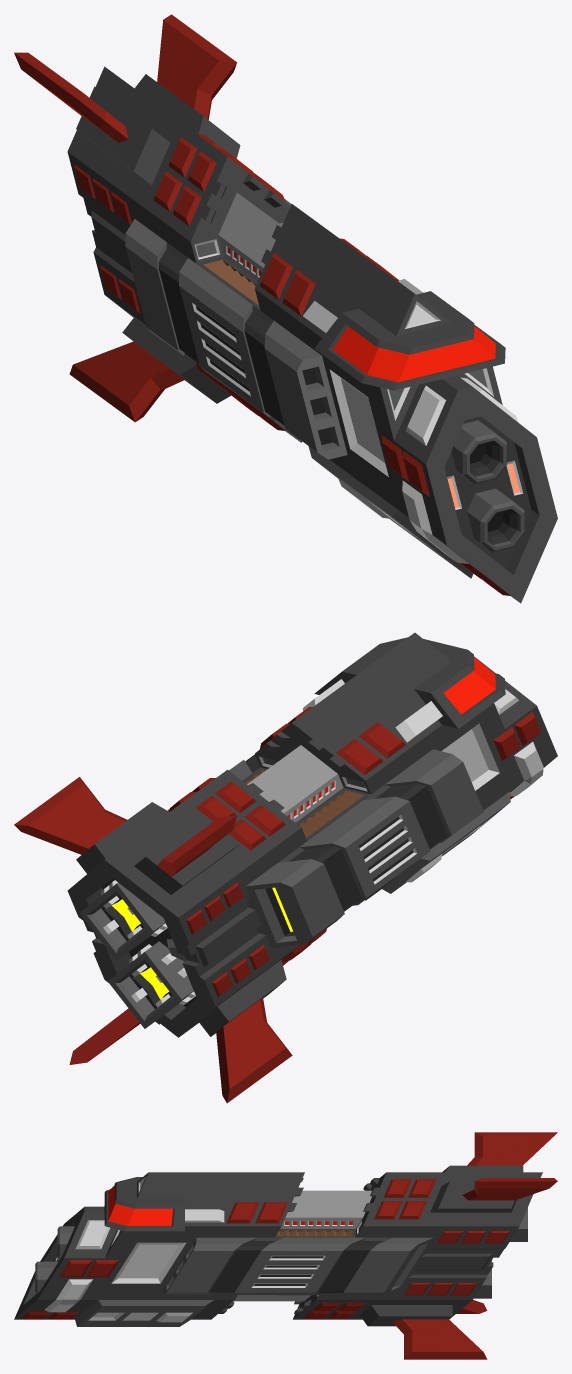
File: Destroyer03.fbx
The picture shows the model from 3 angles, top to bottom: view 1: azimuth 30°, elevation 25°; view 2: azimuth 150°, elevation 25°; view 3: azimuth 270°, elevation 25°; orthographic projection. The views are drawn at different scales.
Parts seen in each view (by area): view 1: Mesh_HD; view 2: Mesh_HD; view 3: Mesh_HD.
Boxes of the visible parts, x1=… form: Mesh_HD: x1=14, y1=14, x2=557, y2=603; Mesh_HD: x1=14, y1=632, x2=557, y2=1103; Mesh_HD: x1=14, y1=1132, x2=557, y2=1359.
Bounding box in the file's own units: 248 × 399 × 1103.
